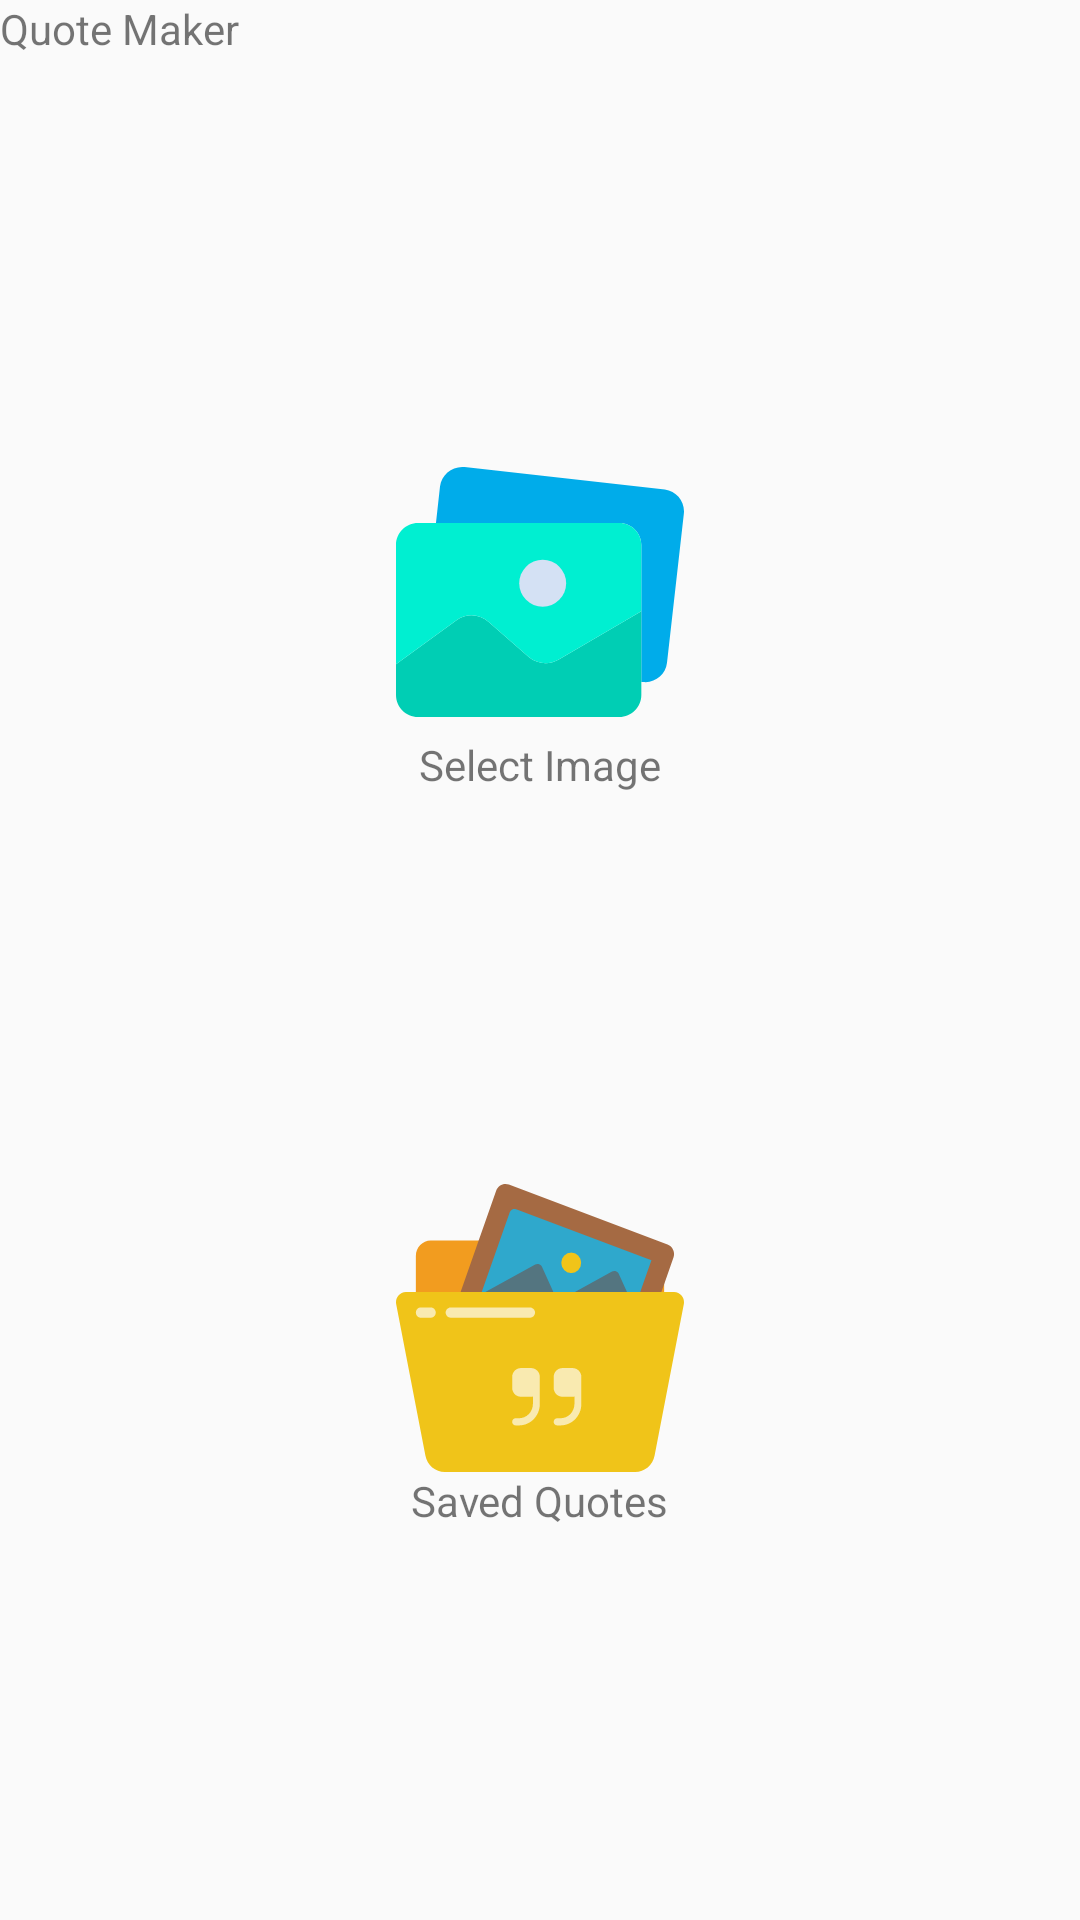

Named icons in this screenshot (1080 x 1920) and their bounding boxes, (x1, y1, x2, y2):
gallery: (396, 467, 684, 717)
